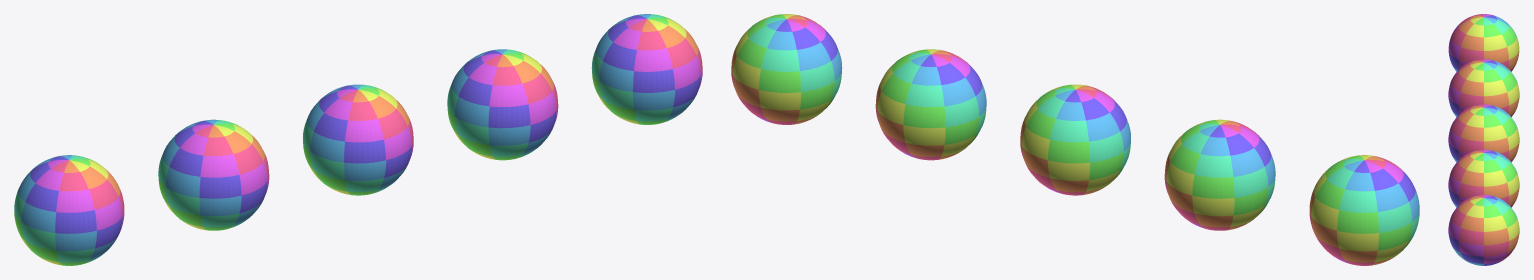
File: spheres_roughness.glb
The picture shows the model from 3 angles, left to right: view 1: azimuth 30°, elevation 25°; view 2: azimuth 150°, elevation 25°; view 3: azimuth 270°, elevation 25°; orthographic projection. The views are drawn at different scales.
Parts seen in each view (by area): view 1: Sphere.002, Sphere.001, Sphere.003, Sphere.004, Sphere; view 2: Sphere.002, Sphere.001, Sphere.003, Sphere.004, Sphere; view 3: Sphere.004, Sphere.002, Sphere.003, Sphere.001, Sphere.
Part boxes in pixels (bbox=[...]): Sphere.002: bbox=[303, 84, 413, 195]; Sphere.001: bbox=[158, 119, 269, 230]; Sphere.003: bbox=[447, 49, 558, 160]; Sphere.004: bbox=[591, 14, 702, 124]; Sphere: bbox=[14, 155, 124, 265]; Sphere.002: bbox=[1020, 84, 1130, 195]; Sphere.001: bbox=[1164, 119, 1275, 230]; Sphere.003: bbox=[875, 49, 986, 160]; Sphere.004: bbox=[731, 14, 842, 124]; Sphere: bbox=[1309, 155, 1419, 265]; Sphere.004: bbox=[1448, 194, 1519, 265]; Sphere.002: bbox=[1448, 104, 1519, 162]; Sphere.003: bbox=[1448, 149, 1519, 207]; Sphere.001: bbox=[1448, 59, 1519, 116]; Sphere: bbox=[1448, 14, 1519, 71].
Size of the model in its own units: 13.99 by 2 by 2.
Materials: 5 (5 with a texture image).
